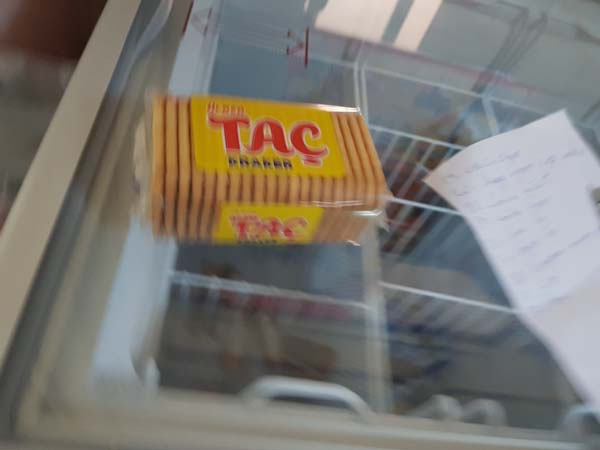tackraker: (130, 87, 394, 261)
